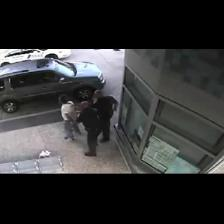person: (91, 90, 118, 142), (77, 102, 101, 156), (59, 96, 81, 140)
